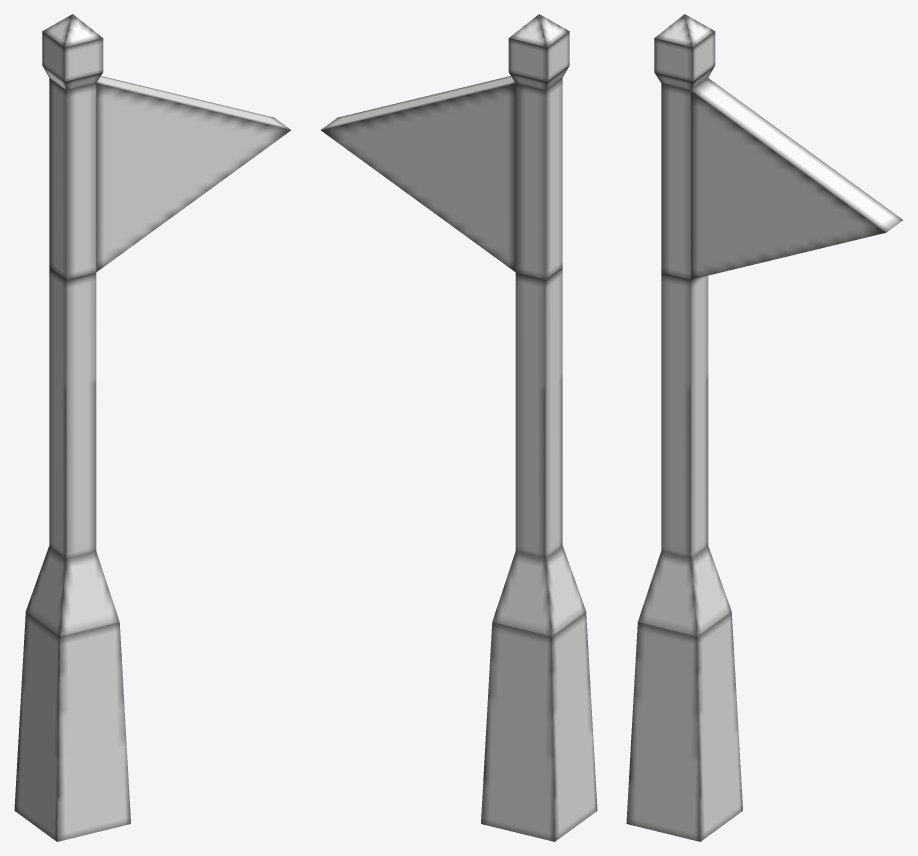
Rendered from Flag-01.fbx.
The picture shows the model from 3 angles, left to right: view 1: azimuth 30°, elevation 25°; view 2: azimuth 150°, elevation 25°; view 3: azimuth 330°, elevation 25°; orthographic projection.
Visible parts, largest first — view 1: Flag_01; view 2: Flag_01; view 3: Flag_01.
Part boxes in pixels (x1,y1,x2,y2): Flag_01: (14,14,290,841); Flag_01: (321,14,597,841); Flag_01: (626,14,903,841).
Bounding box in the file's own units: 0.3258 × 1.01 × 0.0975.
